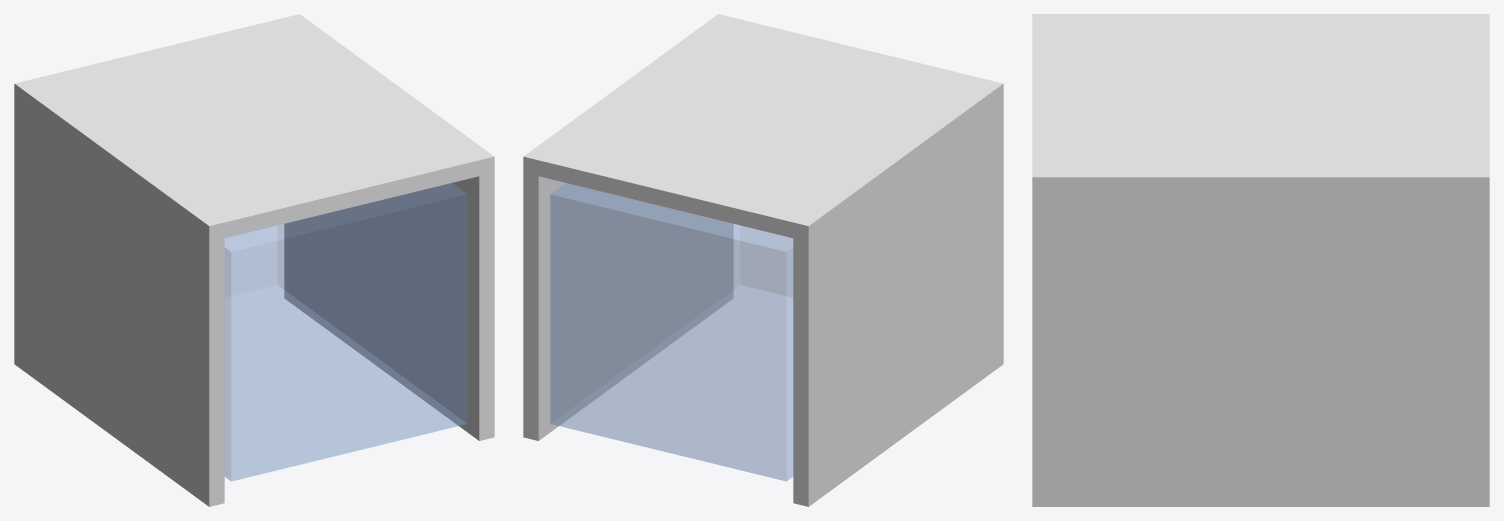
File: CoolingZone-4m.glb
3 renders of one model, left to right at view 1: azimuth 30°, elevation 25°; view 2: azimuth 150°, elevation 25°; view 3: azimuth 270°, elevation 25°, orthographic. The views are drawn at different scales.
Visible parts, largest first — view 1: Shell-Roof, ProcessZone, Shell-Left, Shell-Right; view 2: Shell-Roof, ProcessZone, Shell-Left, Shell-Right; view 3: Shell-Right, Shell-Roof.
Boxes of the visible parts, x1,y1,x2,y2 form: Shell-Roof: [14, 14, 494, 241]; ProcessZone: [224, 183, 467, 481]; Shell-Left: [14, 99, 224, 506]; Shell-Right: [284, 172, 494, 440]; Shell-Roof: [523, 14, 1003, 241]; ProcessZone: [550, 183, 793, 481]; Shell-Left: [793, 99, 1003, 506]; Shell-Right: [523, 172, 733, 440]; Shell-Right: [1032, 196, 1489, 506]; Shell-Roof: [1032, 14, 1489, 195].
Bounding box in the file's own units: 3.38 × 3.18 × 4.
